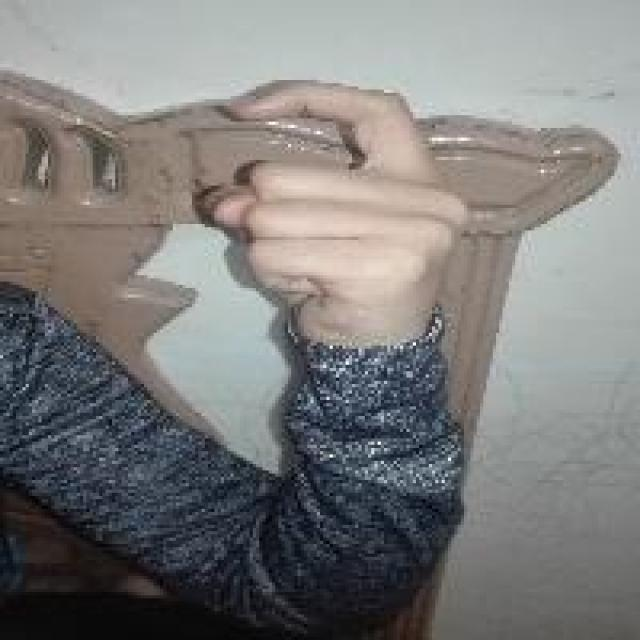X: (206, 72, 472, 379)
